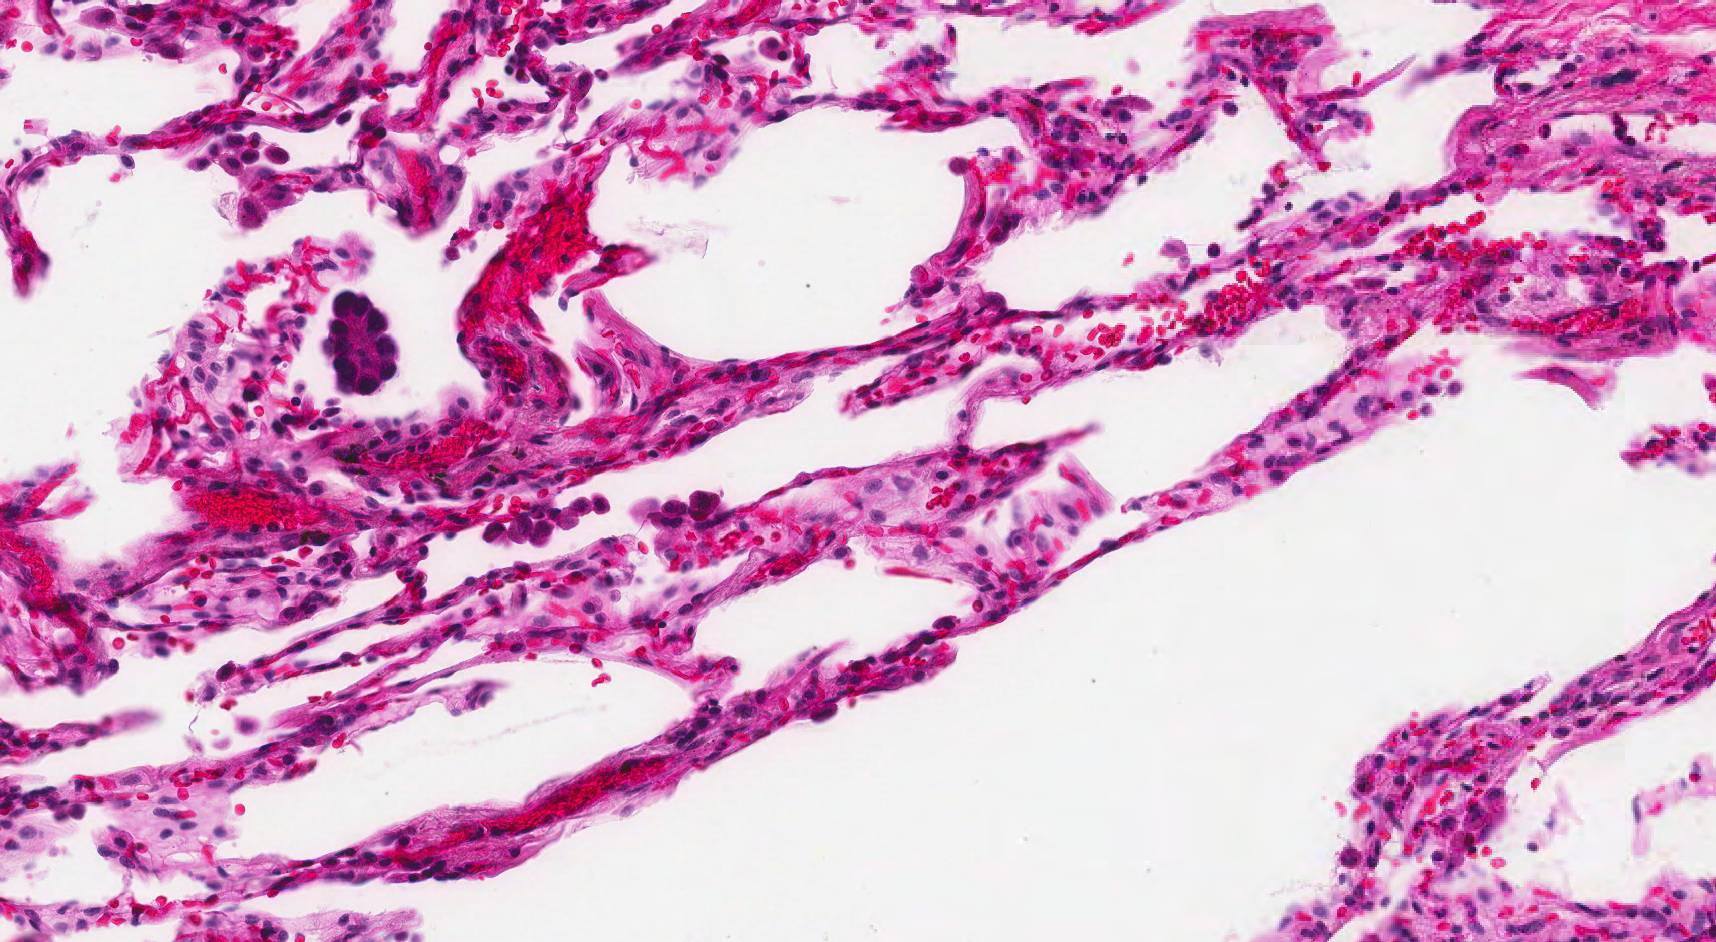stas: (321, 292, 401, 399)
